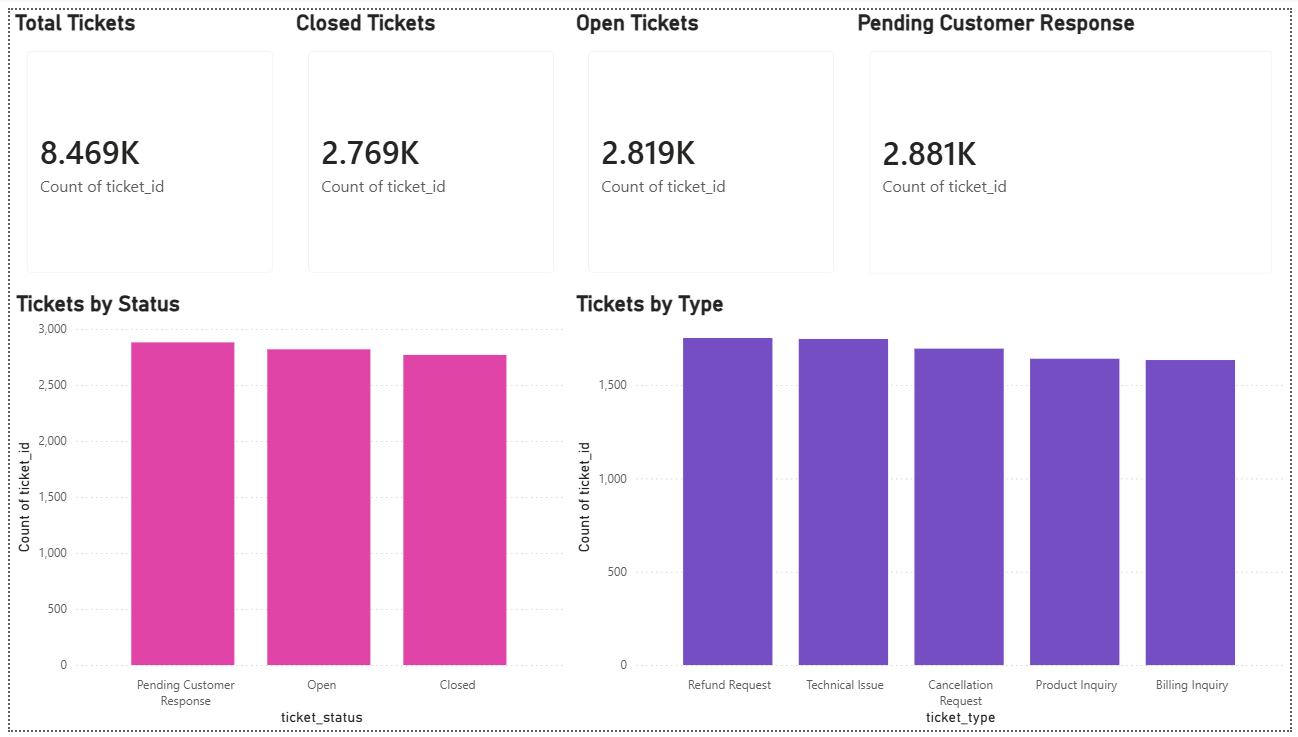

Layout of this report page (visuals, bound fields, positions):
{"tool":"powerbi","page":{"name":"Customer Support Overview","canvas":[1280,720],"ordinal":0},"visuals":[{"type":"cardVisual","title":"Total Tickets","fields":{"Data":["CountNonNull(Ticket_Data.ticket_id)"]},"box":[0,0,280.7,280.7],"z":0},{"type":"cardVisual","title":"Closed Tickets","fields":{"Data":["CountNonNull(Ticket_Data.ticket_id)"]},"box":[280.7,0,280.7,280.7],"z":1000},{"type":"textbox","box":[0,291,281,281],"z":2000},{"type":"cardVisual","title":"Open Tickets","fields":{"Data":["CountNonNull(Ticket_Data.ticket_id)"]},"box":[561.4,0,280.7,280.7],"z":3000},{"type":"cardVisual","title":"Pending Customer Response","fields":{"Data":["CountNonNull(Ticket_Data.ticket_id)"]},"box":[842.5,0,437.8,281.3],"z":4000},{"type":"clusteredColumnChart","title":"Tickets by Status","fields":{"Category":["Ticket_Data.ticket_status"],"Y":["CountNonNull(Ticket_Data.ticket_id)"]},"box":[1.3,280.9,560.5,438.8],"z":5000},{"type":"clusteredColumnChart","title":"Tickets by Type","fields":{"Category":["Ticket_Data.ticket_type"],"Y":["CountNonNull(Ticket_Data.ticket_id)"]},"box":[561.8,280.9,718.4,438.8],"z":6000}]}

Visuals, with their boxes in screenshot pixels (x1, y1, x2, y2), scaled from the page's 1280x720 canvas onto the 1298x737 screenshot:
"Total Tickets" cardVisual: (0, 0, 285, 287)
"Closed Tickets" cardVisual: (285, 0, 569, 287)
textbox: (0, 298, 285, 586)
"Open Tickets" cardVisual: (569, 0, 854, 287)
"Pending Customer Response" cardVisual: (854, 0, 1297, 288)
"Tickets by Status" clusteredColumnChart: (1, 288, 570, 736)
"Tickets by Type" clusteredColumnChart: (570, 288, 1297, 736)
